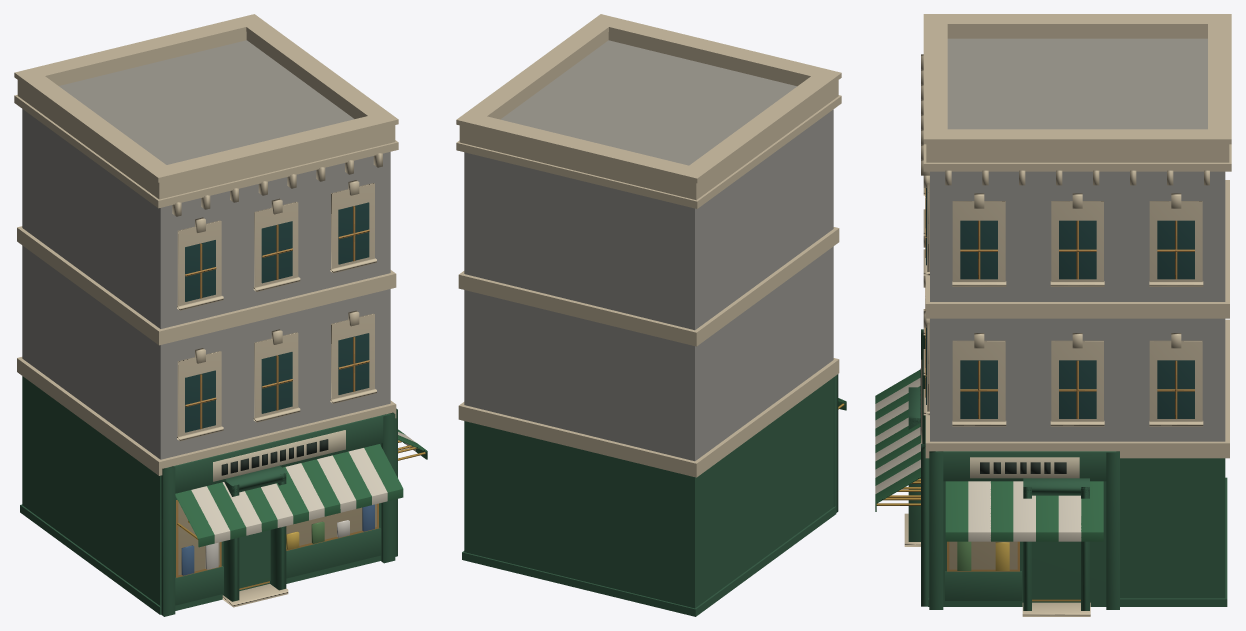
The model's file is city_stone_3.glb.
The picture shows the model from 3 angles, left to right: view 1: azimuth 30°, elevation 25°; view 2: azimuth 150°, elevation 25°; view 3: azimuth 270°, elevation 25°; orthographic projection. The views are drawn at different scales.
Parts seen in each view (by area): view 1: city_stone_3; view 2: city_stone_3; view 3: city_stone_3.
Boxes of the visible parts, x1,y1,x2,y2 form: city_stone_3: (14,14,427,616); city_stone_3: (456,14,846,616); city_stone_3: (875,14,1231,616).
Bounding box in the file's own units: 5.48 × 8.24 × 5.67.
